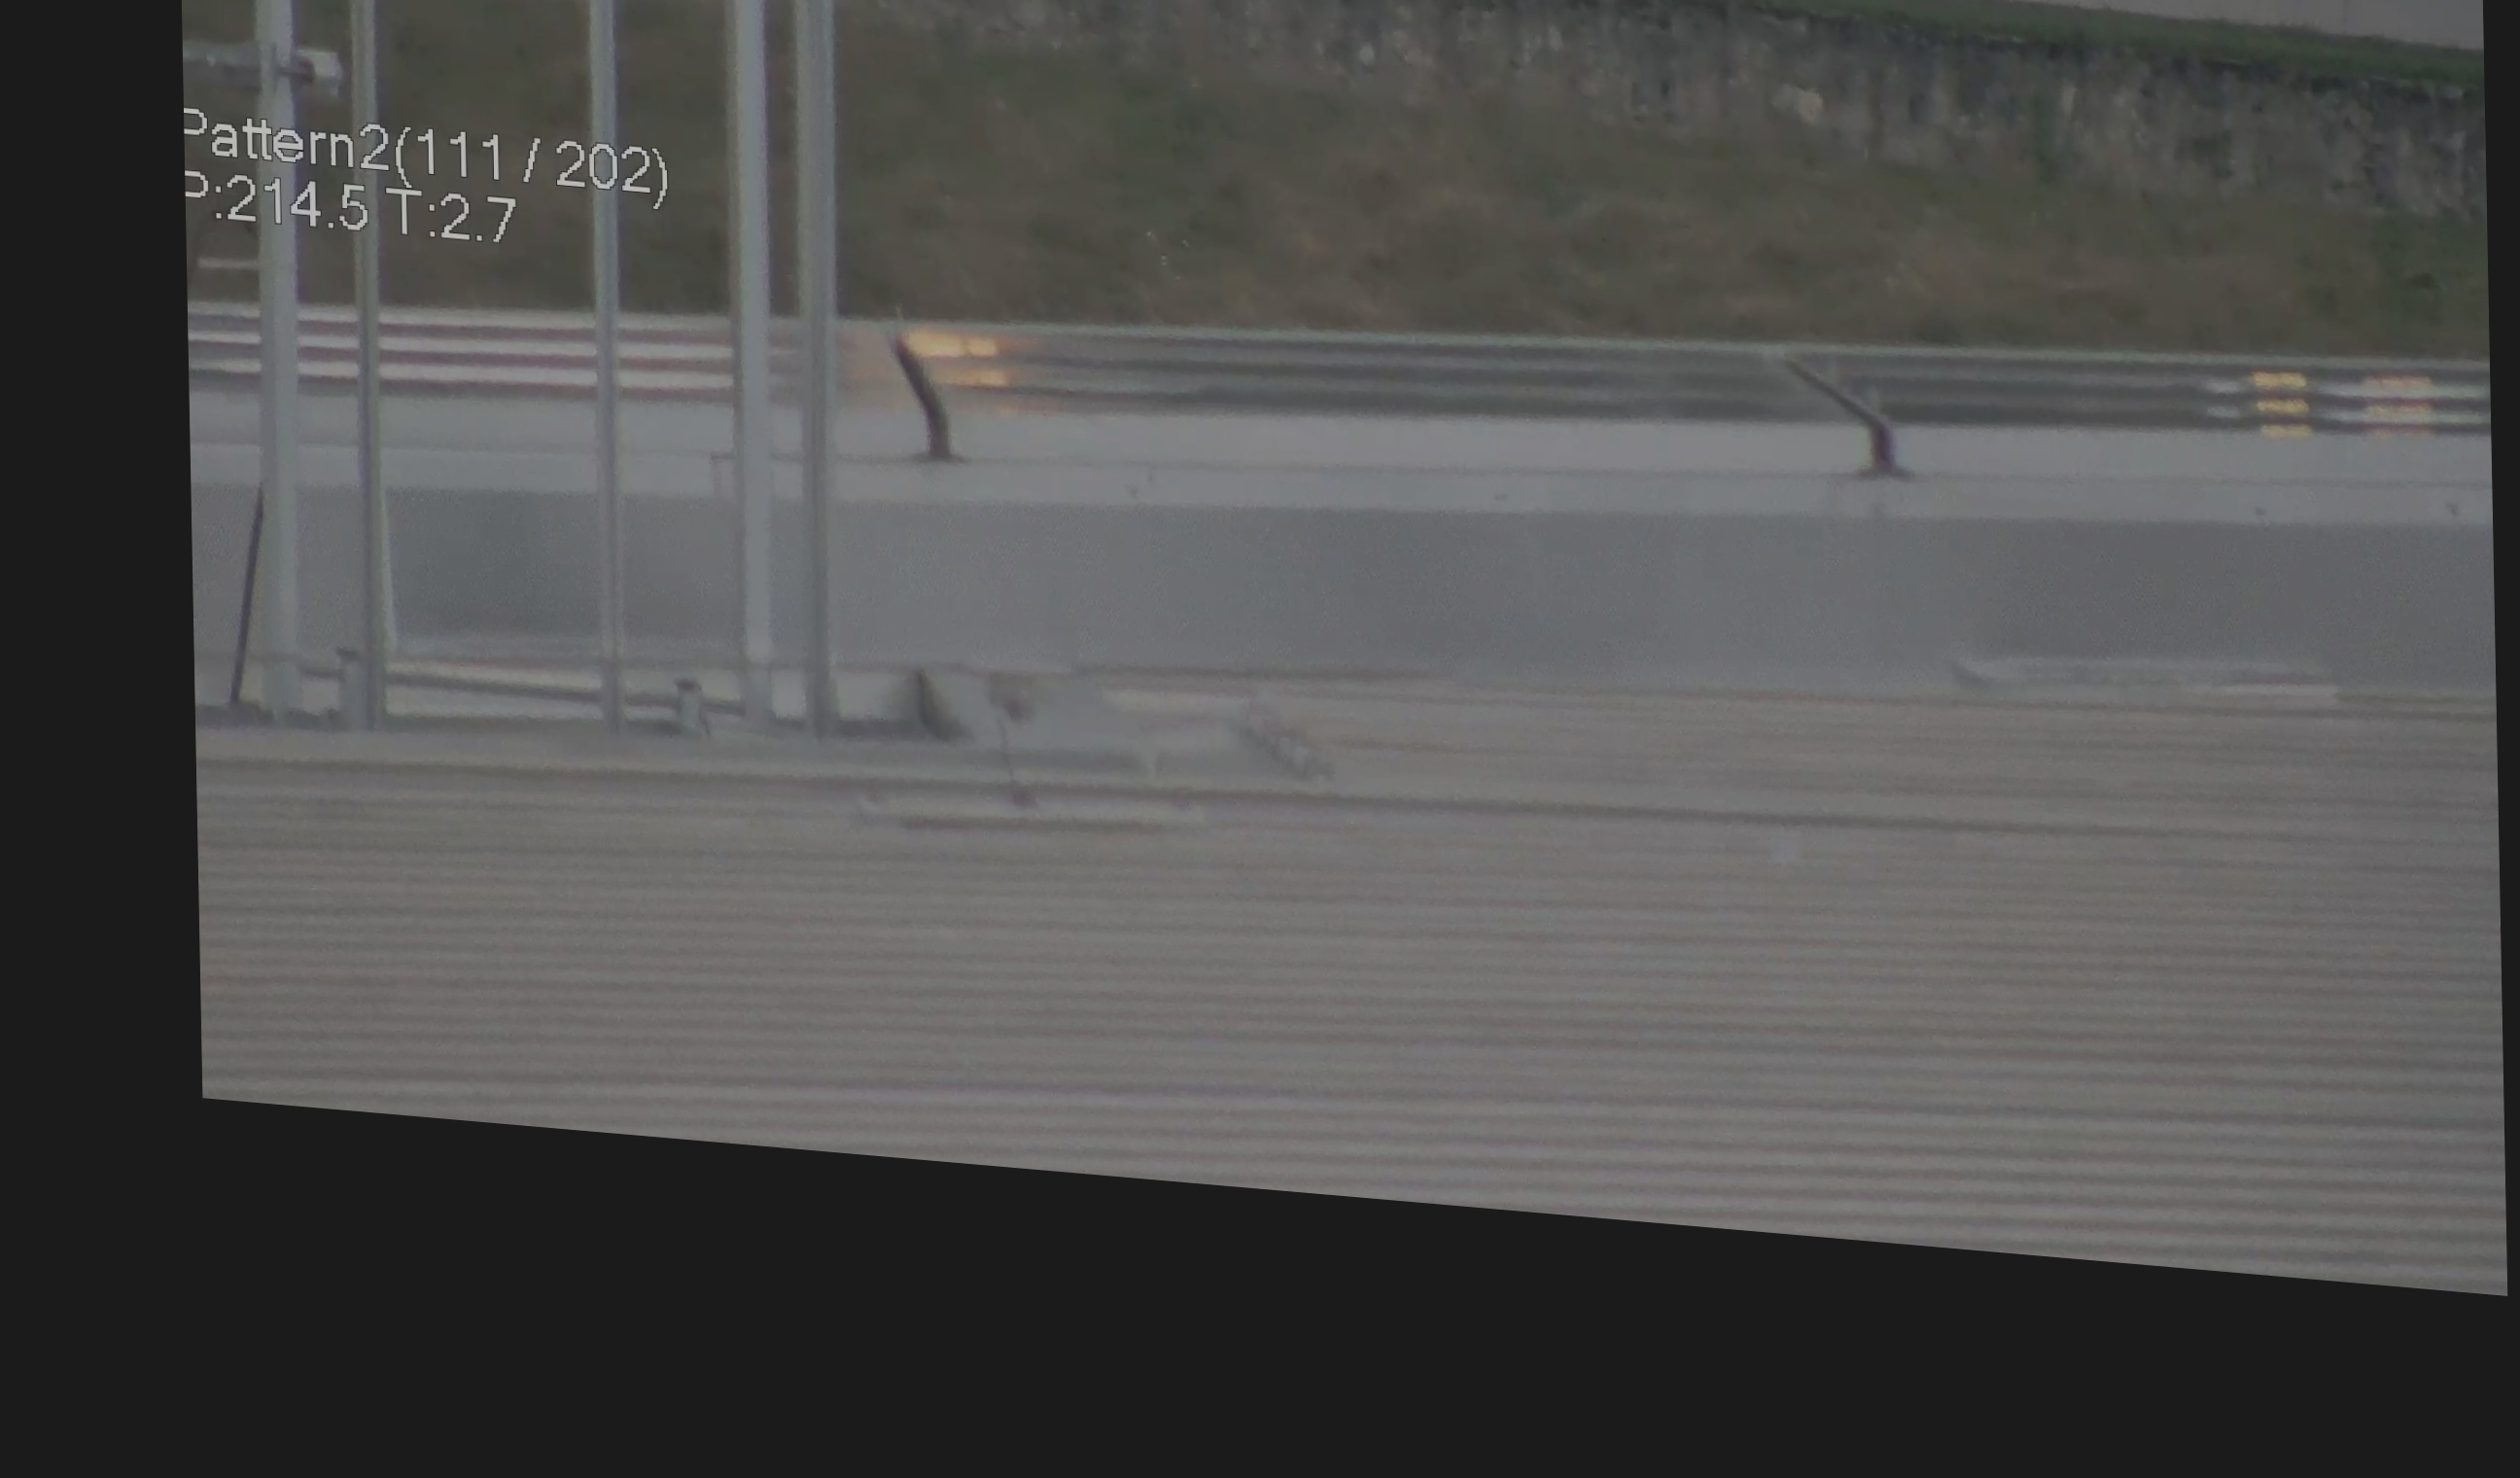Other: (881, 318, 969, 473)
